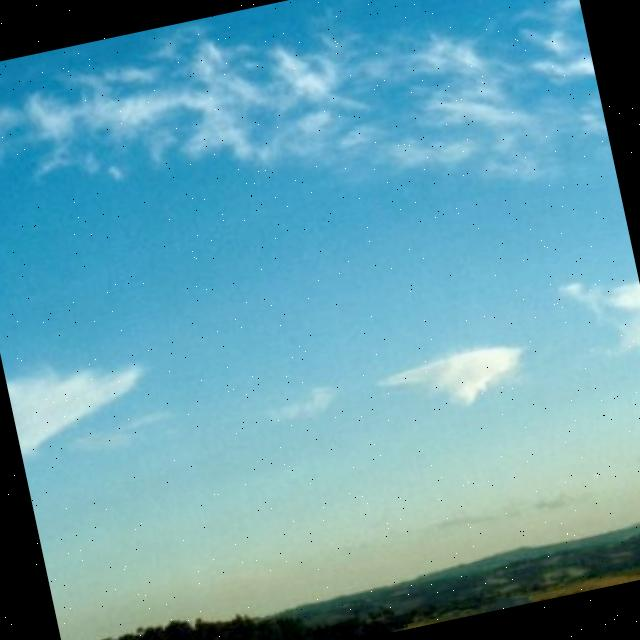Ci: (1, 1, 640, 523)
